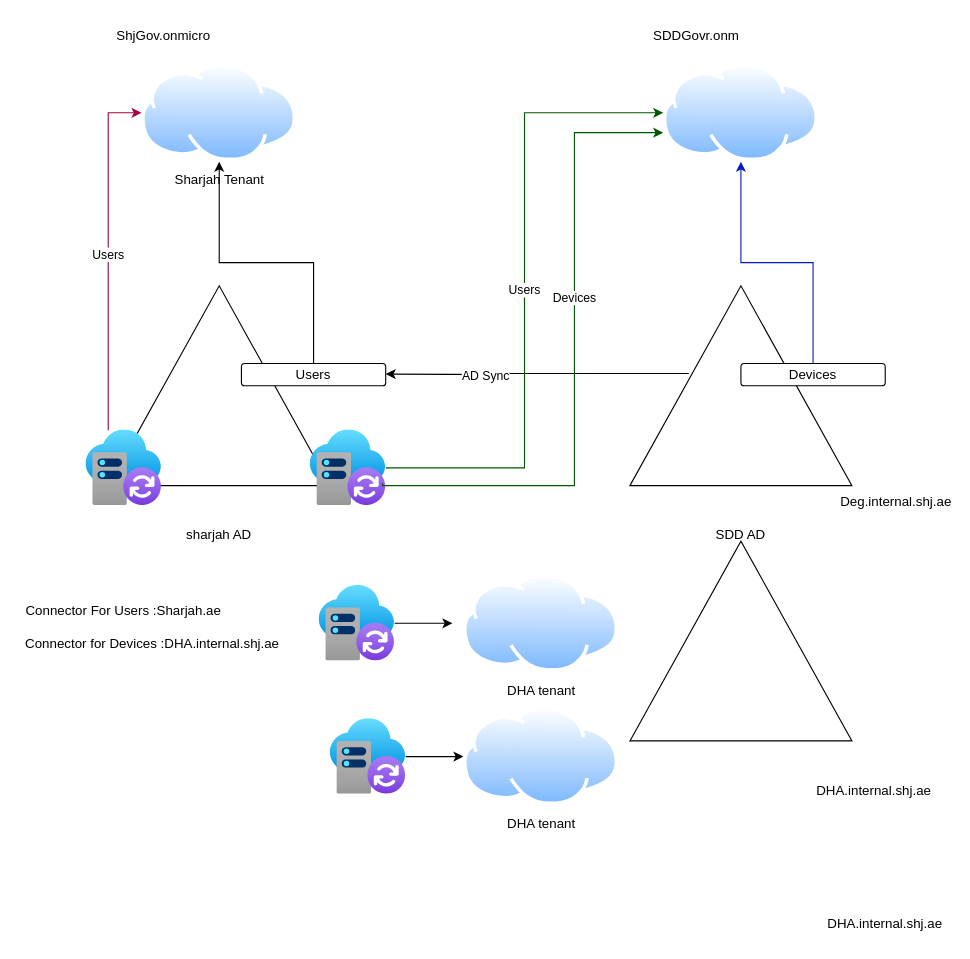
Image size: 970x959. Some labels were removed from this diagram. Each missing label, with the centre of its shape:
DHA AD: the point at 740,640
SDD tenant: the point at 740,112
